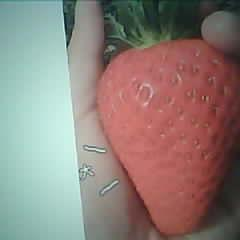straw-ripe: (97, 39, 239, 235)
